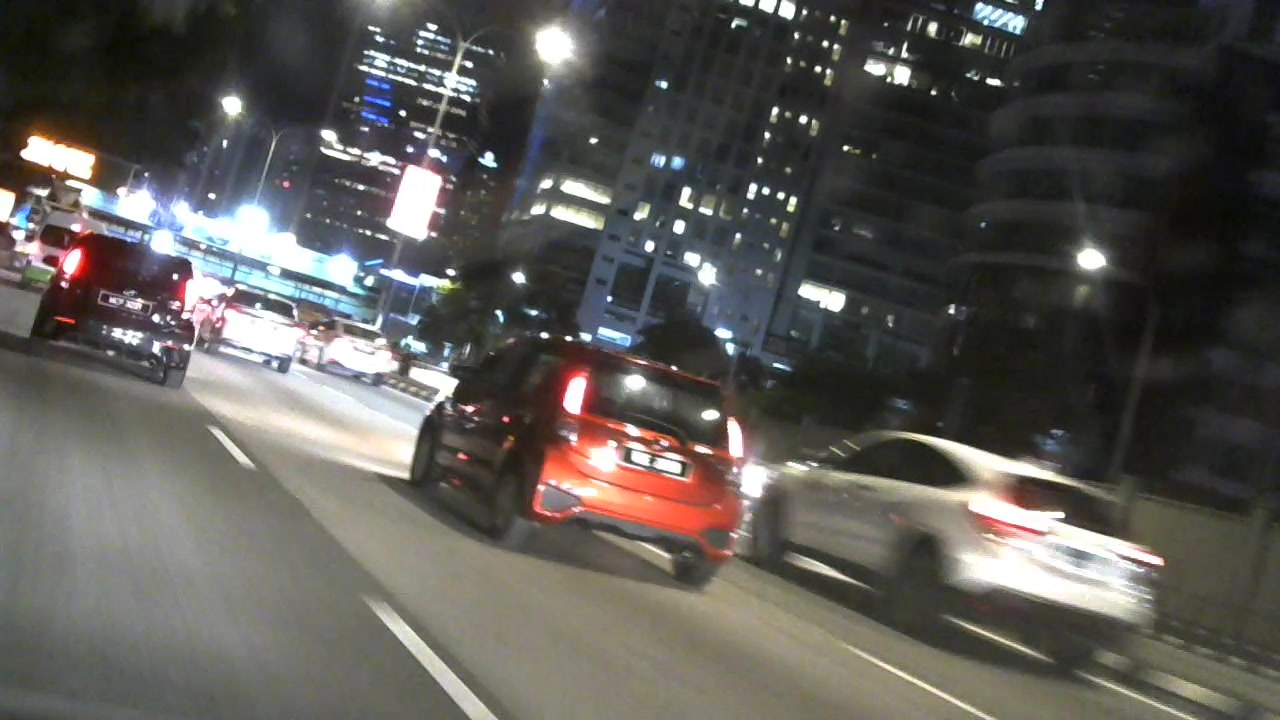Car: (756, 401, 1178, 670), (399, 308, 738, 590), (39, 231, 199, 389), (298, 305, 401, 388), (205, 284, 303, 371)
